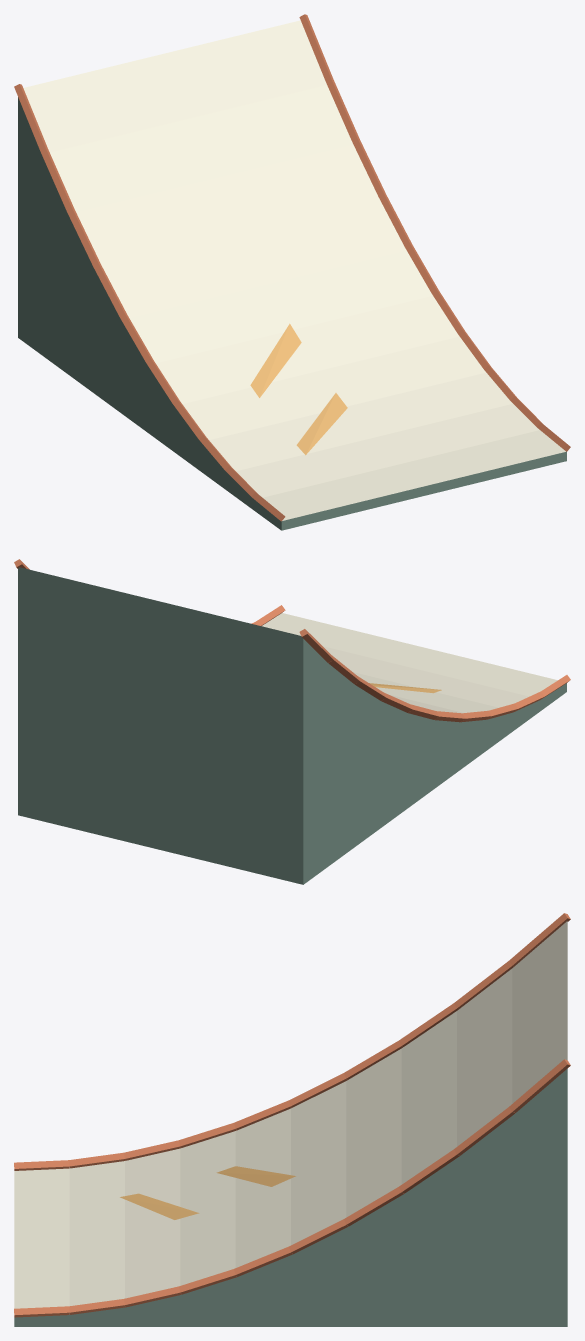
Rendered from high-ramp.glb.
The picture shows the model from 3 angles, top to bottom: view 1: azimuth 30°, elevation 25°; view 2: azimuth 150°, elevation 25°; view 3: azimuth 270°, elevation 25°; orthographic projection. The views are drawn at different scales.
Parts seen in each view (by area): view 1: curved-snow-kicker; view 2: curved-snow-kicker; view 3: curved-snow-kicker.
Part boxes in pixels (left/top/right/bottom): curved-snow-kicker: left=14, top=14, right=570, bottom=530; curved-snow-kicker: left=14, top=559, right=570, bottom=884; curved-snow-kicker: left=14, top=913, right=570, bottom=1326.
Size of the model in its own units: 2.57 by 2.14 by 4.03.
